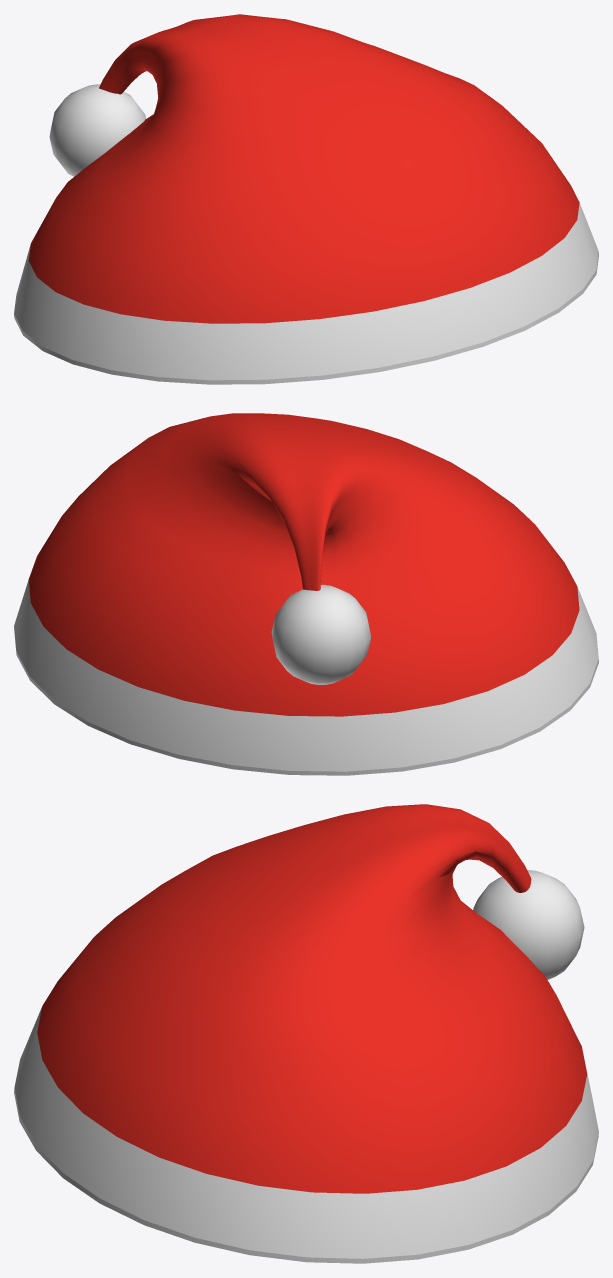
File: hat_santa.fbx
3 views of the same model, one above another, from view 1: azimuth 30°, elevation 25°; view 2: azimuth 150°, elevation 25°; view 3: azimuth 270°, elevation 25° (orthographic). The views are drawn at different scales.
Visible parts, largest first — view 1: hat_santa; view 2: hat_santa; view 3: hat_santa.
Boxes of the visible parts, box(x1,y1,x2,y2) form: hat_santa: box(14, 14, 598, 384); hat_santa: box(14, 413, 598, 775); hat_santa: box(14, 804, 598, 1263).
Size of the model in its own units: 1.99 by 0.9179 by 1.67.
